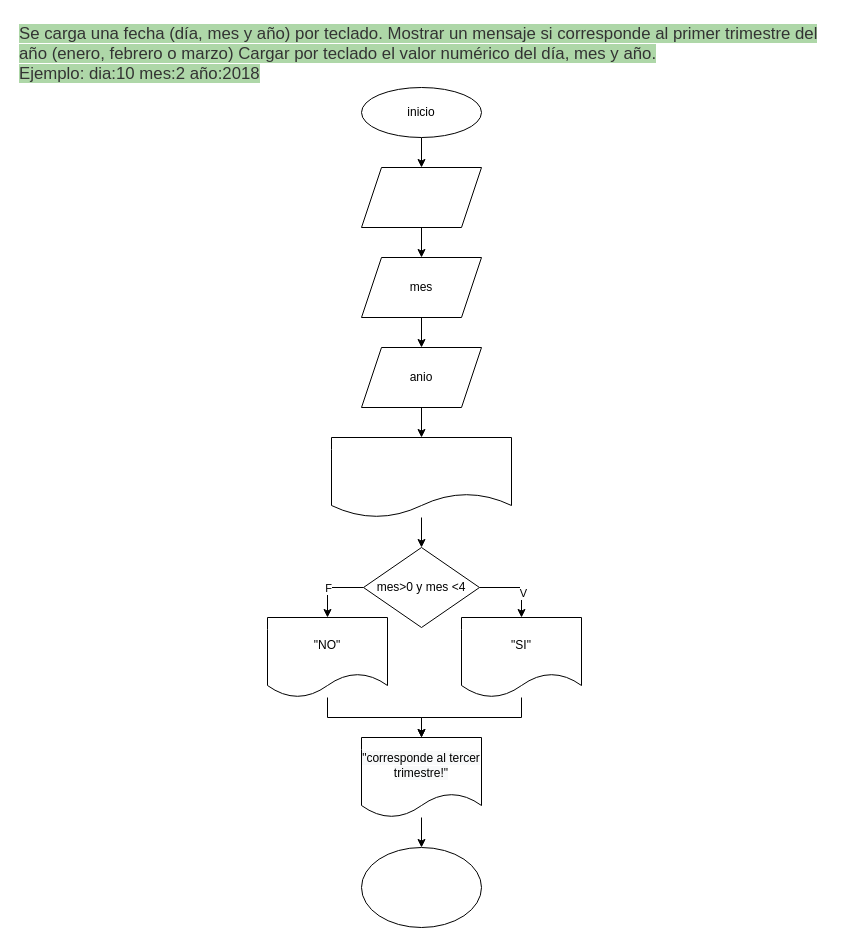
Image size: 844x945. Some labels were removed from this diagram. Each missing label, with the box of its shape:
"¡La fecha",dia,"/",mes,"/",anio: (330, 436, 512, 518)
dia: (360, 166, 482, 228)
fin: (360, 846, 482, 928)
